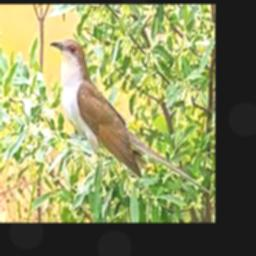Cuckoo: (49, 38, 210, 194)
